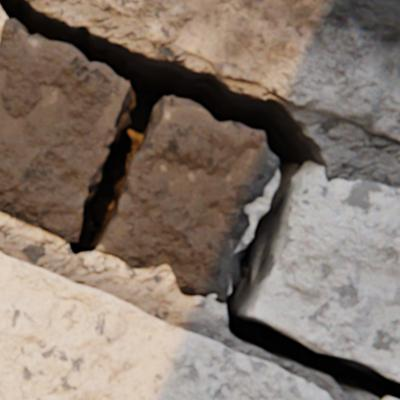brick: (0, 252, 331, 399), (91, 0, 399, 143), (248, 171, 399, 381), (382, 396, 397, 399)
broken_brick: (96, 96, 277, 303), (0, 20, 130, 241)
crack: (0, 0, 399, 399)
